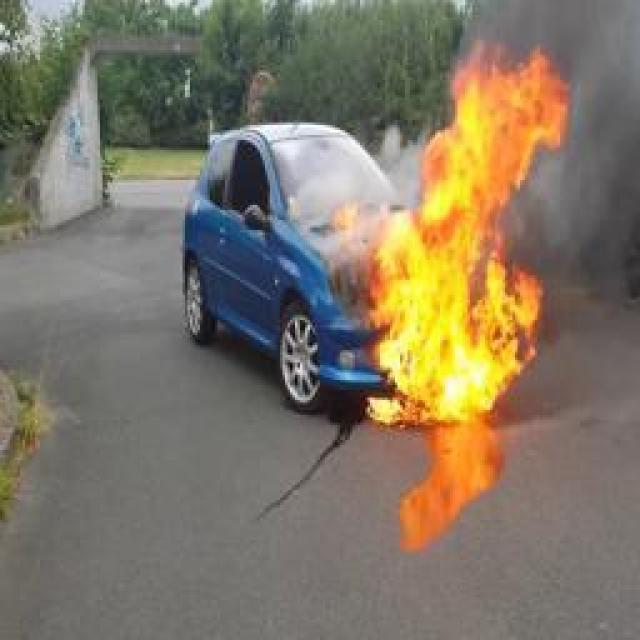Fire: (338, 44, 572, 424)
